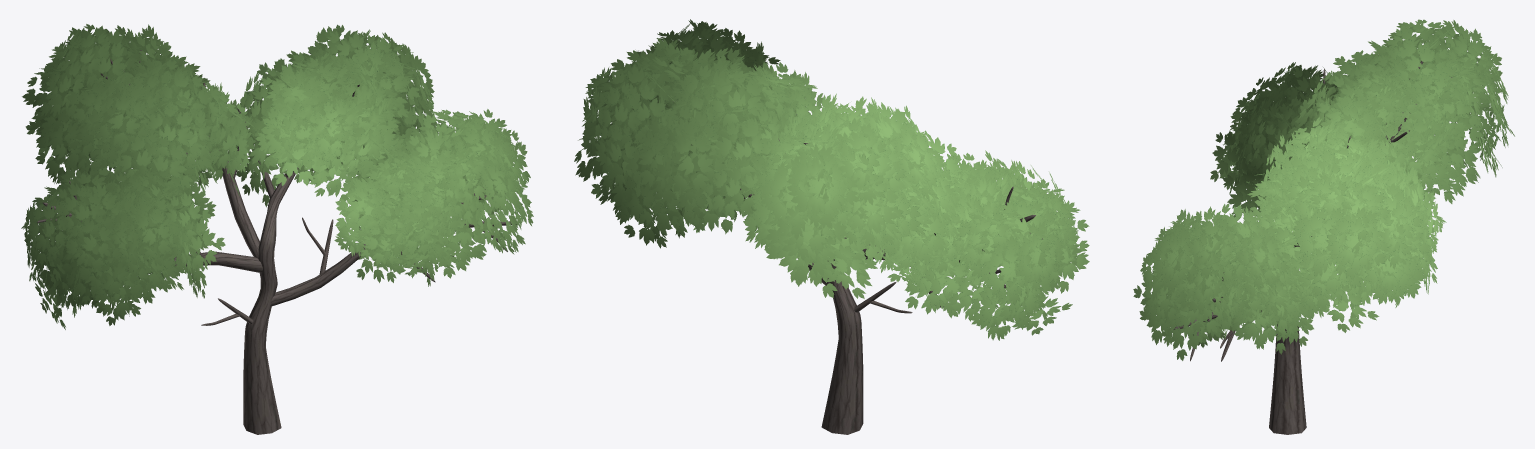
The model's file is MapleTree_3.glb.
The picture shows the model from 3 angles, left to right: view 1: azimuth 30°, elevation 25°; view 2: azimuth 150°, elevation 25°; view 3: azimuth 270°, elevation 25°; orthographic projection. The views are drawn at different scales.
Parts seen in each view (by area): view 1: MapleTree_3; view 2: MapleTree_3; view 3: MapleTree_3.
Boxes of the visible parts, x1,y1,x2,y2 form: MapleTree_3: (21,24,533,434); MapleTree_3: (574,19,1089,434); MapleTree_3: (1133,19,1514,434).
Size of the model in its own units: 8.98 by 6.99 by 6.61.
2 materials, 2 textured.
